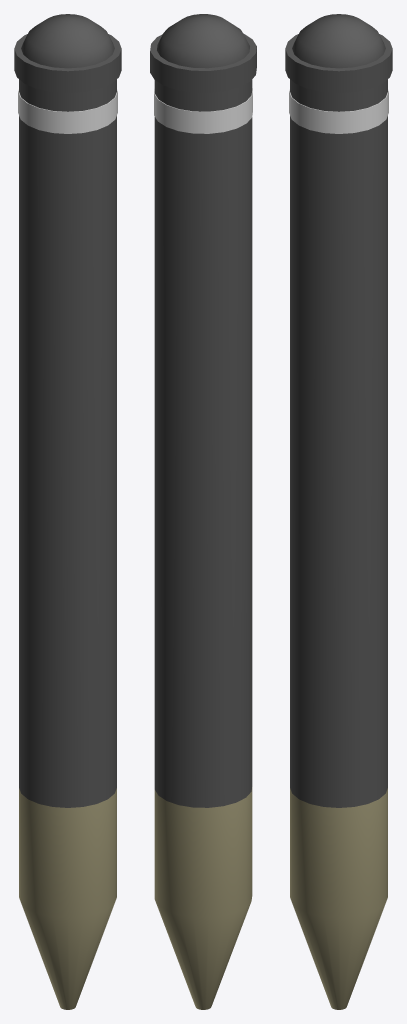
File: Bollard.fbx
The picture shows the model from 3 angles, left to right: view 1: azimuth 90°, elevation 25°; view 2: azimuth 150°, elevation 25°; view 3: azimuth 270°, elevation 25°; orthographic projection.
Visible parts, largest first — view 1: bollard; view 2: bollard; view 3: bollard.
Boxes of the visible parts, box(x1,y1,x2,y2) form: bollard: box(14, 14, 121, 1009); bollard: box(150, 14, 256, 1009); bollard: box(285, 14, 392, 1009).
Bounding box in the file's own units: 22.18 × 225 × 22.18.
